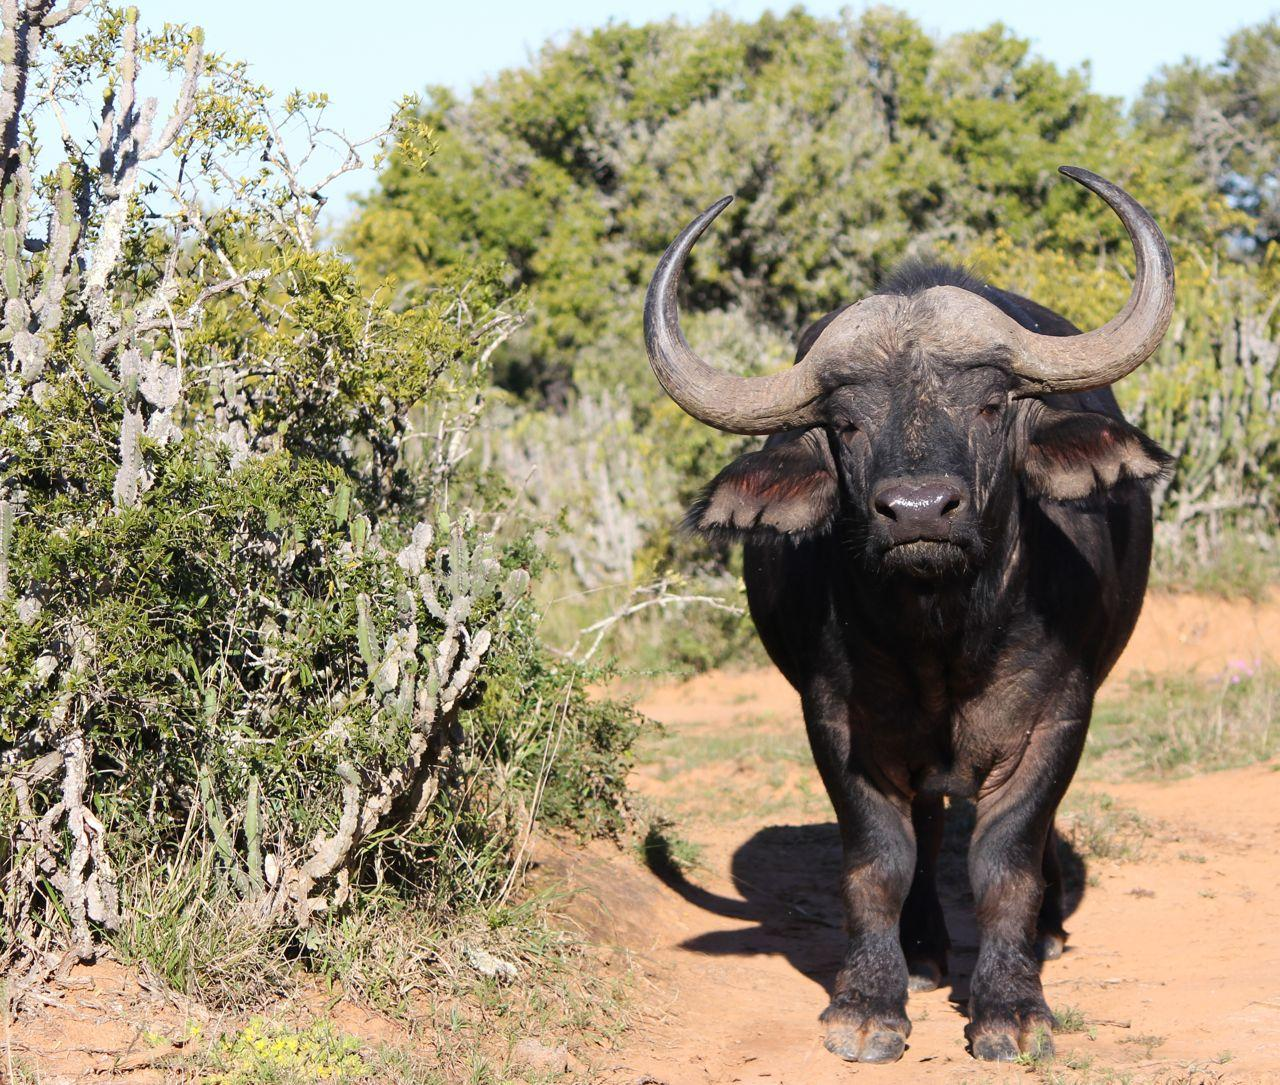Buffalo: (607, 45, 1280, 1085)
